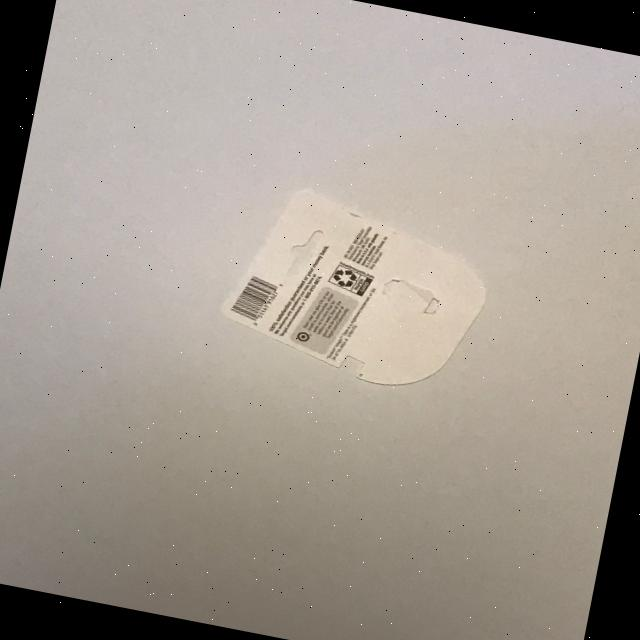paper: (210, 176, 500, 402)
